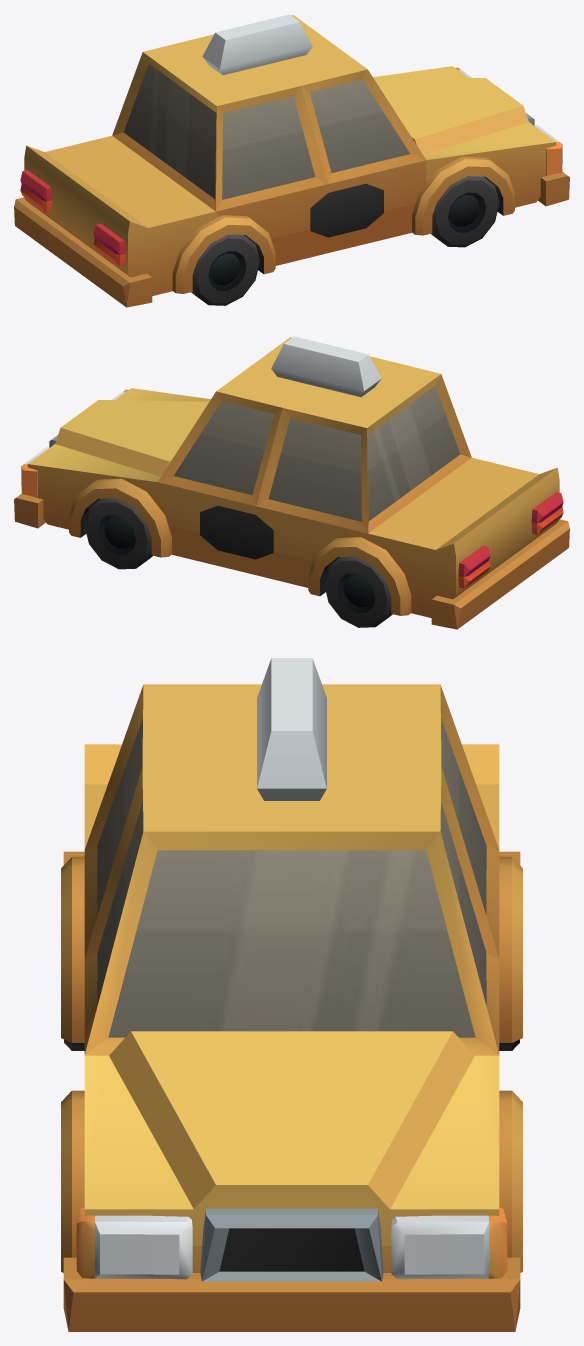
Rendered from taxi_generic.glb.
3 renders of one model, top to bottom at view 1: azimuth 30°, elevation 25°; view 2: azimuth 150°, elevation 25°; view 3: azimuth 270°, elevation 25°, orthographic. The views are drawn at different scales.
Parts seen in each view (by area): view 1: car_taxi; view 2: car_taxi; view 3: car_taxi.
Part boxes in pixels (x1,y1,x2,y2): car_taxi: [14, 14, 569, 307]; car_taxi: [14, 336, 569, 629]; car_taxi: [61, 658, 522, 1331].
Bounding box in the file's own units: 4.6 × 2.13 × 2.05.
Materials: 1 (1 with a texture image).
